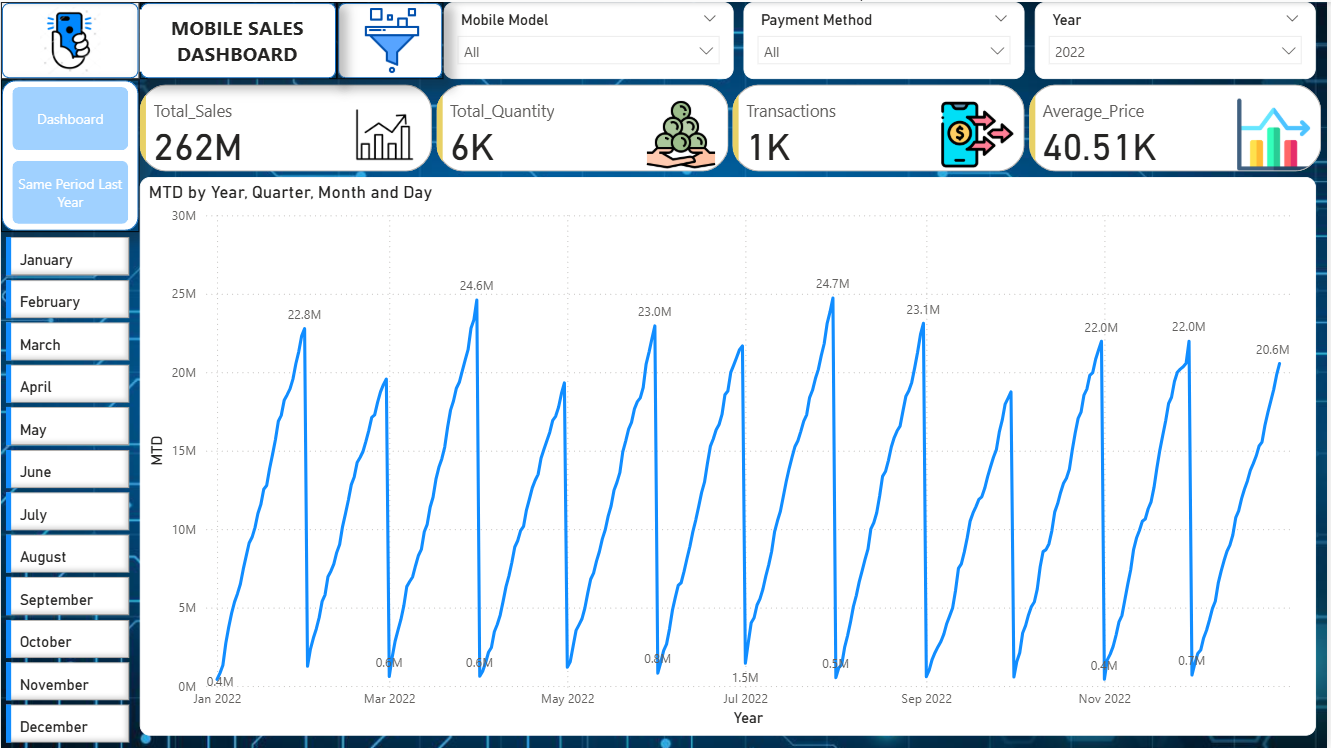

What the dashboard file says about the page in this screenshot:
{"tool":"powerbi","page":{"name":"MTD Report","canvas":[1280,720],"ordinal":1},"visuals":[{"type":"shape","box":[0,0,133.9,74.8],"z":0},{"type":"image","box":[0,0,133.9,74.8],"z":1000},{"type":"shape","box":[0,74.8,133.9,147.2],"z":2000},{"type":"cardVisual","fields":{"Data":["Sales_Data.Total_Sales","Sales_Data.Total_Quantity","Sales_Data.Transactions","Sales_Data.Average_Price"]},"box":[129.1,74.8,1150.9,94.1],"z":3000},{"type":"slicer","fields":{"Values":["Sales_Data.Mobile Model"]},"box":[427.1,0,279.9,74.8],"z":4000},{"type":"slicer","fields":{"Values":["Sales_Data.Payment Method"]},"box":[716.6,0,271.4,74.8],"z":5000},{"type":"shape","box":[324.5,0,102.5,74.8],"z":6000},{"type":"image","box":[333,0,88.1,74.8],"z":7000},{"type":"slicer","fields":{"Values":["Custom_Calender.Date.Variation.Date Hierarchy.Year"]},"box":[997.7,0,271.4,74.8],"z":8000},{"type":"shape","box":[133.9,0,190.6,74.8],"z":9000},{"type":"textbox","box":[133.9,7.2,188.2,60.3],"z":10000},{"type":"lineChart","fields":{"Y":["Sales_Data.MTD"],"Category":["Custom_Calender.Date.Variation.Date Hierarchy.Year","Custom_Calender.Date.Variation.Date Hierarchy.Quarter","Custom_Calender.Date.Variation.Date Hierarchy.Month","Custom_Calender.Date.Variation.Date Hierarchy.Day"]},"box":[133.9,168.9,1135.3,539.3],"z":11000},{"type":"advancedSlicerVisual","fields":{"Values":["Custom_Calender.Date.Variation.Date Hierarchy.Month"]},"box":[0,222,129.1,498.3],"z":12000},{"type":"pageNavigator","box":[10.9,82,112.2,132.7],"z":12001}]}

Visuals, with their boxes in screenshot pixels (x1, y1, x2, y2), scaled from the page's 1280x720 canvas onto the 1331x748 screenshot:
shape: bbox=(0, 0, 139, 78)
image: bbox=(0, 0, 139, 78)
shape: bbox=(0, 78, 139, 231)
cardVisual - Sales_Data.Total_Sales x Sales_Data.Total_Quantity: bbox=(134, 78, 1330, 175)
slicer - Sales_Data.Mobile Model: bbox=(444, 0, 735, 78)
slicer - Sales_Data.Payment Method: bbox=(745, 0, 1027, 78)
shape: bbox=(337, 0, 444, 78)
image: bbox=(346, 0, 438, 78)
slicer - Custom_Calender.Date.Variation.Date Hierarchy.Year: bbox=(1037, 0, 1320, 78)
shape: bbox=(139, 0, 337, 78)
textbox: bbox=(139, 7, 335, 70)
lineChart - Sales_Data.MTD x Custom_Calender.Date.Variation.Date Hierarchy.Year: bbox=(139, 175, 1320, 736)
advancedSlicerVisual - Custom_Calender.Date.Variation.Date Hierarchy.Month: bbox=(0, 231, 134, 747)
pageNavigator: bbox=(11, 85, 128, 223)
